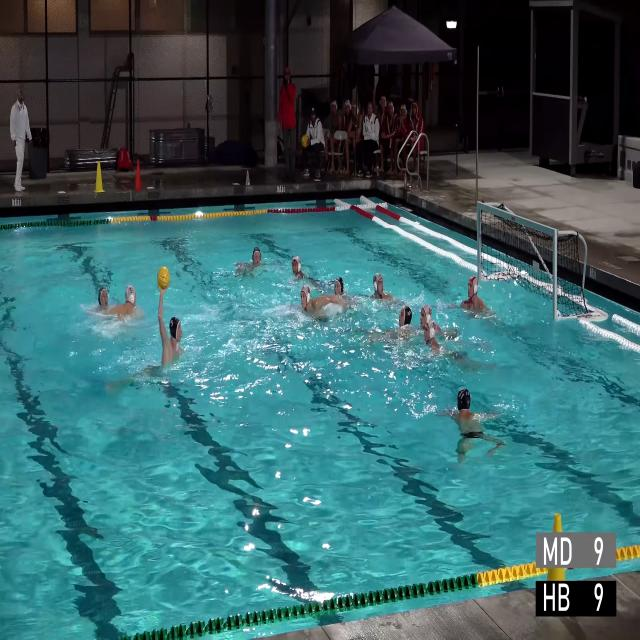ball: (157, 266, 170, 290), (302, 135, 308, 148)
